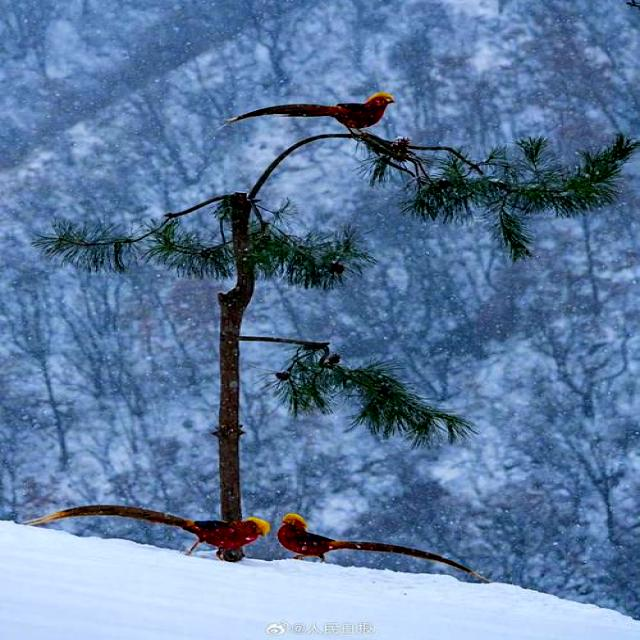Chrysolophus pictus feather: (342, 543, 492, 583), (23, 505, 191, 525), (227, 104, 338, 123)
